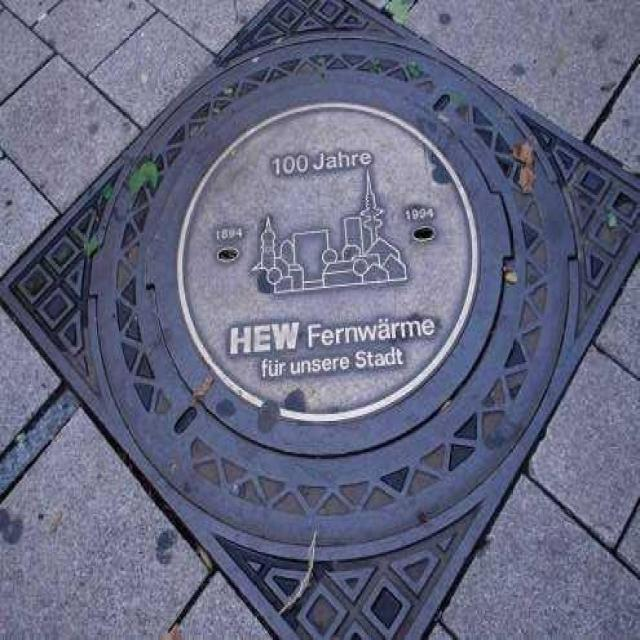manhole: (0, 0, 640, 636)
